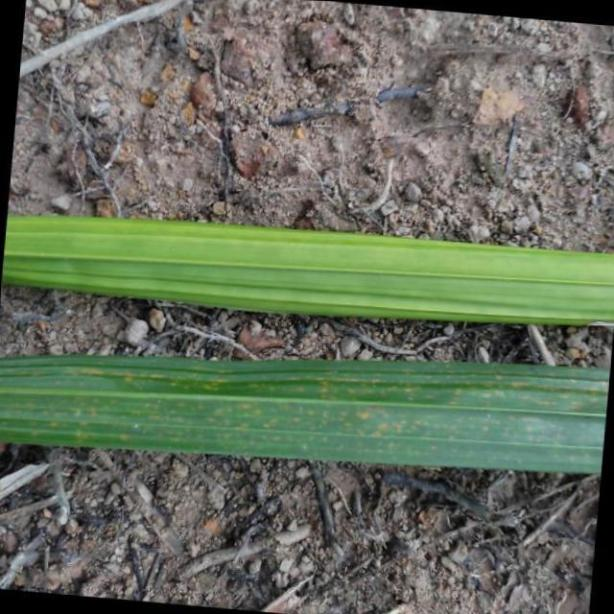nitrogen: (5, 345, 614, 478), (5, 216, 614, 326)
